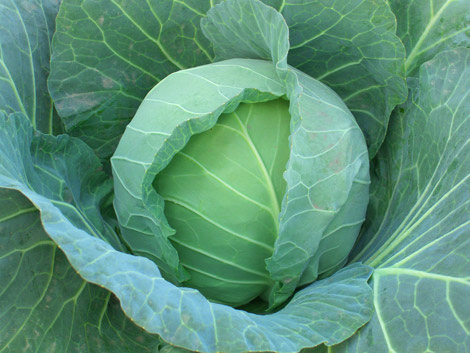cabbage: (109, 0, 372, 310)
